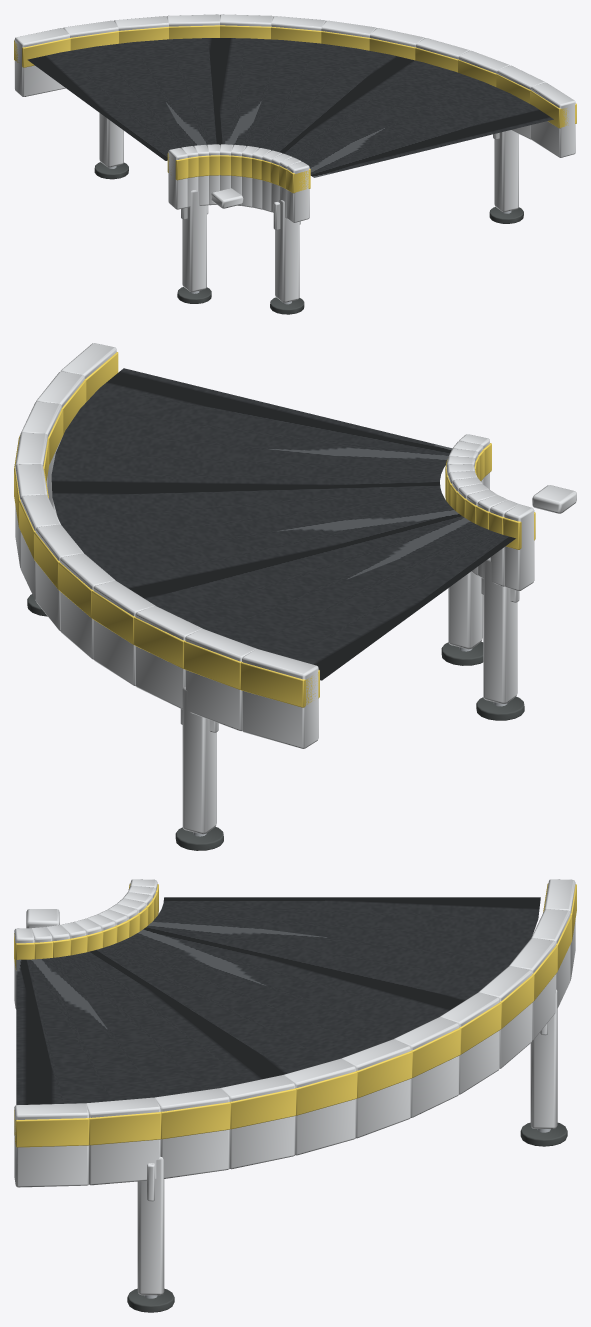
Rendered from cinta_curva_der_mk1.glb.
The picture shows the model from 3 angles, top to bottom: view 1: azimuth 30°, elevation 25°; view 2: azimuth 150°, elevation 25°; view 3: azimuth 270°, elevation 25°; orthographic projection. The views are drawn at different scales.
Visible parts, largest first — view 1: banda, pata_int0, pata_int1, bastidor_ext11, pata_ext1, bastidor_ext0, pata_ext0, bastidor_int11, bastidor_int0, franja_ext0, bastidor_ext10, franja_ext11 (+29 smaller); view 2: banda, bastidor_ext0, pata_int0, pata_ext0, bastidor_ext1, bastidor_ext2, bastidor_ext3, bastidor_ext4, pata_int1, franja_ext0, bastidor_int0, bastidor_ext5 (+17 smaller); view 3: banda, bastidor_ext11, bastidor_ext9, bastidor_ext10, bastidor_ext8, bastidor_ext7, bastidor_ext6, pata_ext1, bastidor_ext5, pata_ext0, bastidor_ext4, bastidor_ext3 (+16 smaller).
Boxes of the visible parts, <box> form: banda: <box>27,38,553,177</box>; pata_int0: <box>182,190,206,292</box>; pata_int1: <box>275,200,299,302</box>; bastidor_ext11: <box>531,82,575,157</box>; pata_ext1: <box>494,130,518,211</box>; bastidor_ext0: <box>14,28,69,96</box>; pata_ext0: <box>99,113,123,167</box>; bastidor_int11: <box>287,161,309,222</box>; bastidor_int0: <box>168,148,187,209</box>; franja_ext0: <box>14,38,70,67</box>; bastidor_ext10: <box>497,65,545,139</box>; franja_ext11: <box>530,90,576,128</box>; banda: <box>51,368,515,680</box>; bastidor_ext0: <box>242,649,318,748</box>; pata_int0: <box>483,558,517,703</box>; pata_ext0: <box>182,687,216,834</box>; bastidor_ext1: <box>185,629,256,731</box>; bastidor_ext2: <box>135,606,202,709</box>; bastidor_ext3: <box>93,580,155,686</box>; bastidor_ext4: <box>60,553,115,659</box>; pata_int1: <box>448,572,482,649</box>; franja_ext0: <box>240,662,319,707</box>; bastidor_int0: <box>504,504,534,590</box>; bastidor_ext5: <box>35,524,83,630</box>; banda: <box>16,897,540,1104</box>; bastidor_ext11: <box>14,1103,88,1187</box>; bastidor_ext9: <box>154,1088,229,1178</box>; bastidor_ext10: <box>86,1097,160,1185</box>; bastidor_ext8: <box>221,1075,295,1169</box>; bastidor_ext7: <box>283,1058,355,1155</box>; bastidor_ext6: <box>341,1039,410,1138</box>; pata_ext1: <box>137,1157,164,1295</box>; bastidor_ext5: <box>394,1017,459,1117</box>; pata_ext0: <box>530,989,557,1128</box>; bastidor_ext4: <box>440,992,499,1094</box>; bastidor_ext3: <box>478,966,532,1068</box>.
Bounding box in the file's own units: 0.837 × 0.33 × 0.837.
5 materials, 1 textured.
